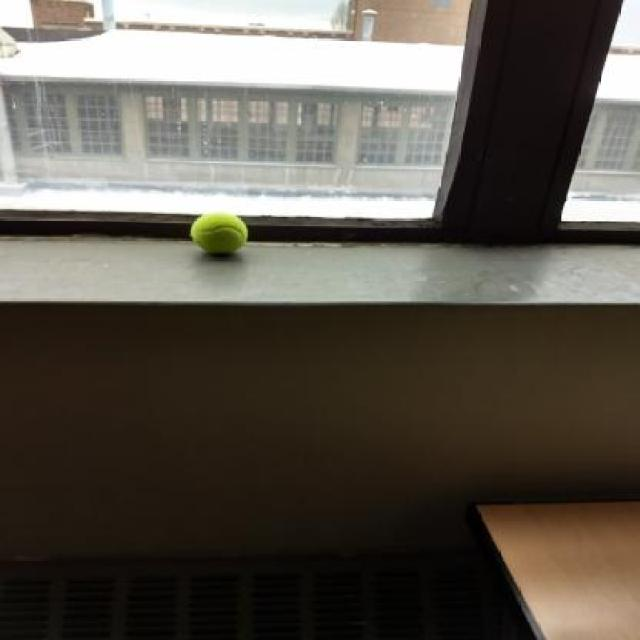tennis-ball: (189, 212, 251, 258)
